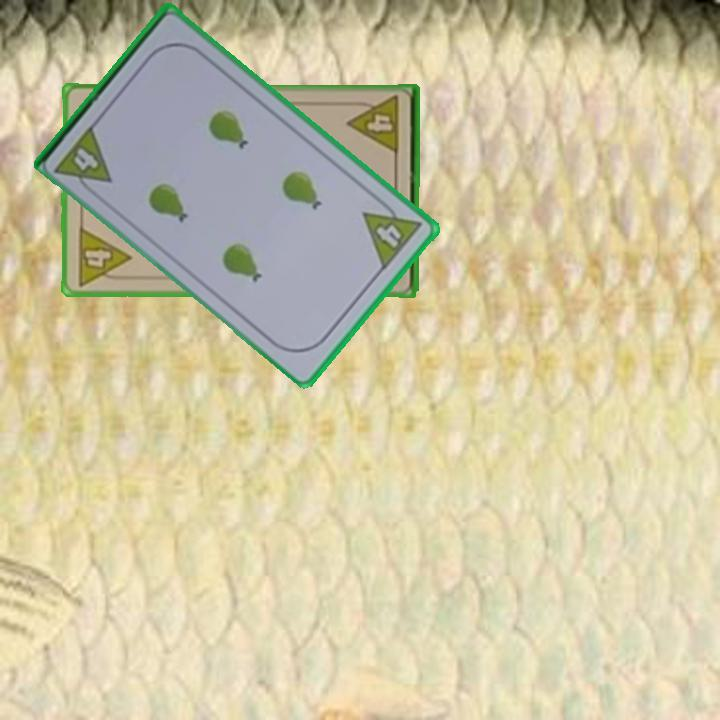4p: (359, 192, 425, 273), (52, 120, 115, 200), (73, 223, 133, 288), (345, 93, 402, 158)
